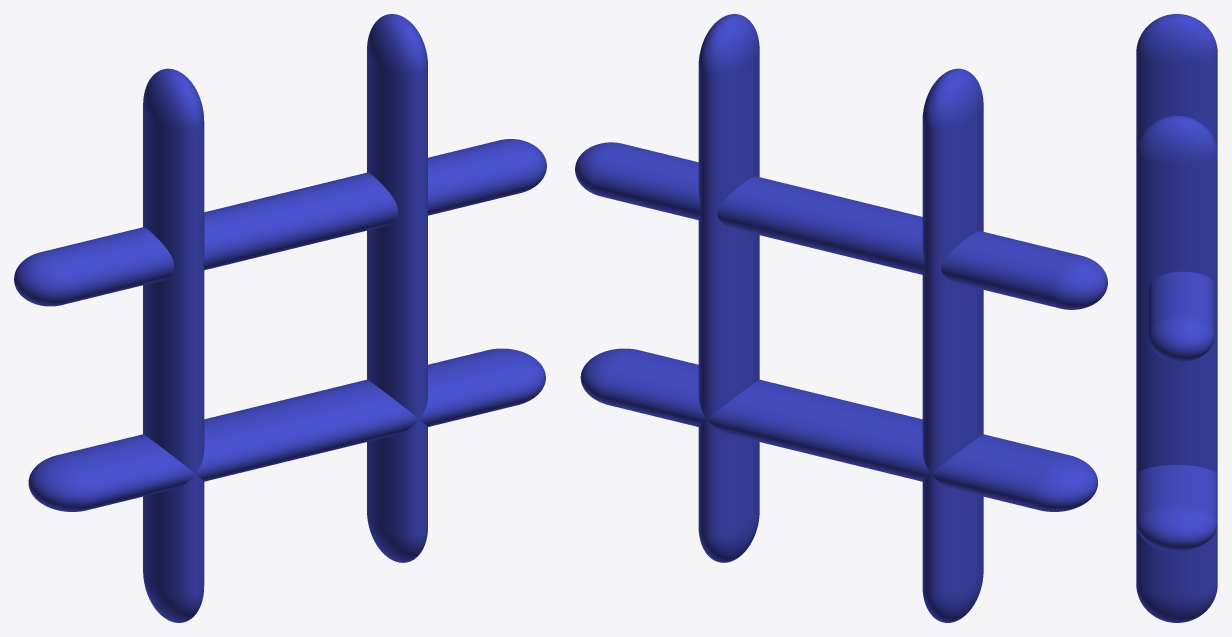
3 renders of one model, left to right at view 1: azimuth 30°, elevation 25°; view 2: azimuth 150°, elevation 25°; view 3: azimuth 270°, elevation 25°, orthographic. The views are drawn at different scales.
Parts seen in each view (by area): view 1: root (×4); view 2: root (×4); view 3: root (×4).
Boxes of the visible parts, box(x1,y1,x2,y2) form: root (×4): box(14, 14, 546, 622); root (×4): box(575, 14, 1107, 622); root (×4): box(1136, 14, 1217, 622).
Size of the model in its own units: 0.5805 by 0.5802 by 0.0841.
